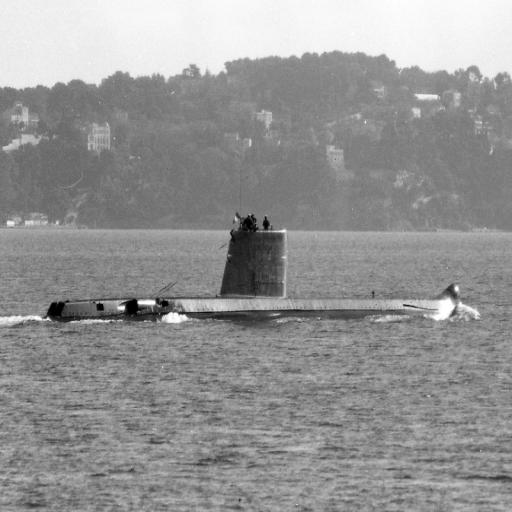submarine: (47, 228, 476, 321)
